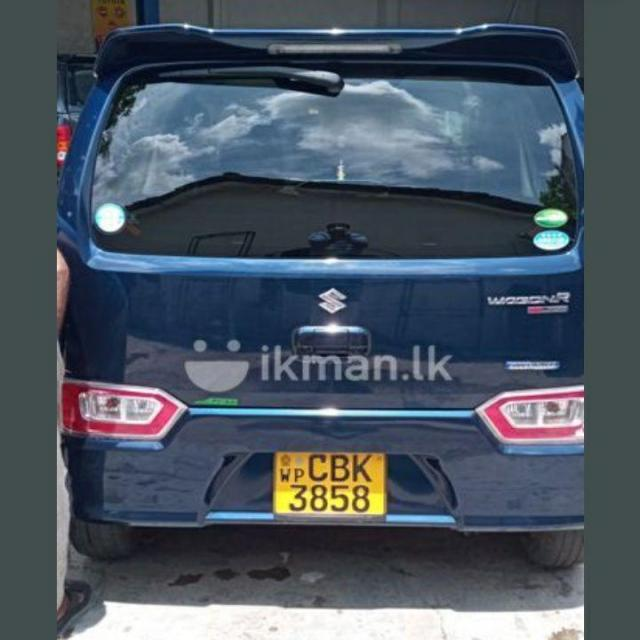license-plate: (273, 451, 385, 514)
